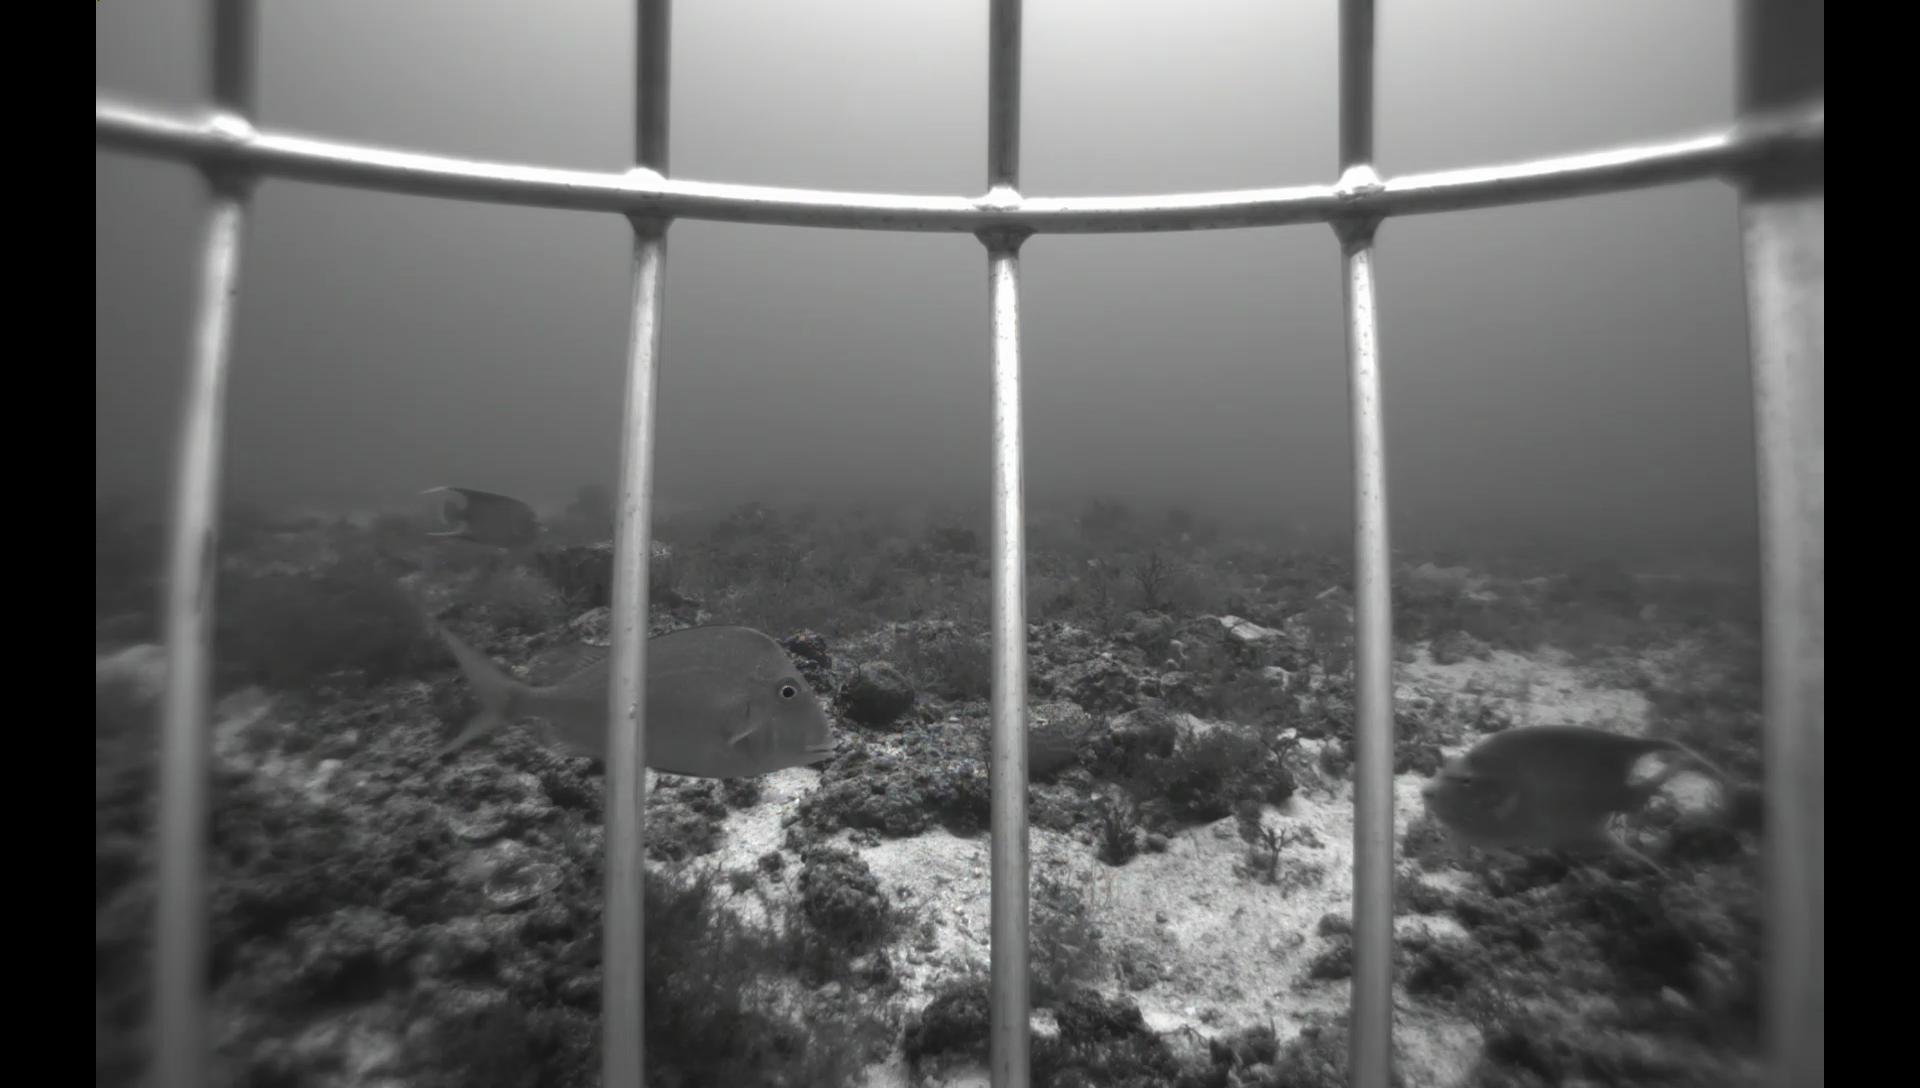CALAMUSNODOSUS-170210608: (419, 613, 843, 786)
HOLACANTHUSBERMUDENSIS-170290102: (1414, 720, 1774, 911), (414, 477, 554, 551)
MYCTEROPERCAPHENAX-170022105: (847, 510, 889, 555)
